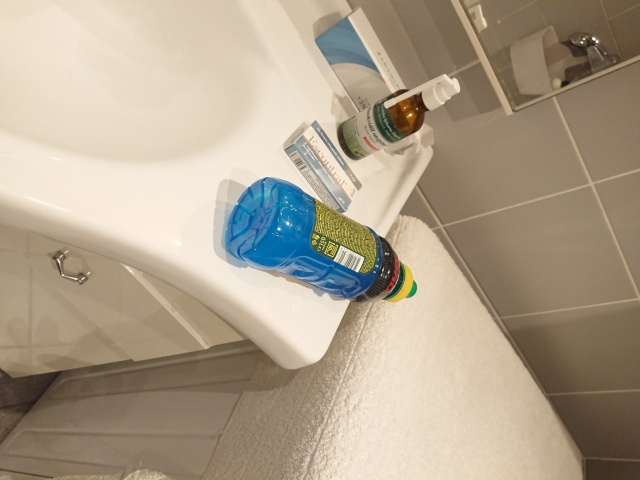Vindi Iso Sport Forest Strawberries 500mL: (222, 174, 418, 305)
